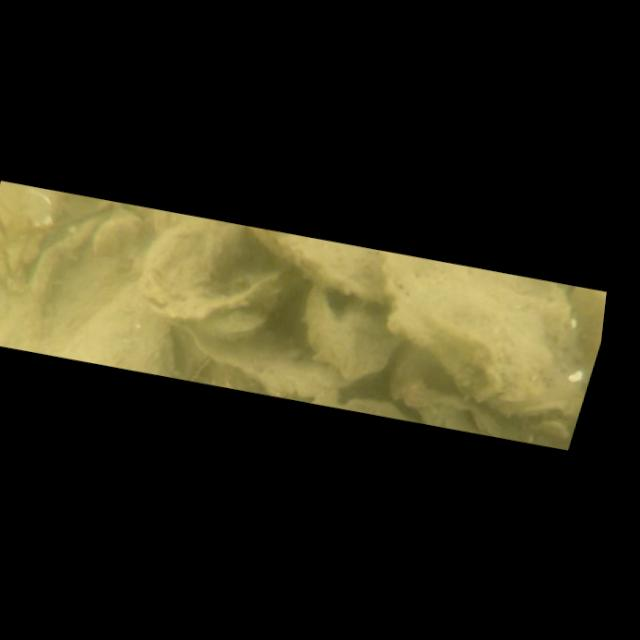Oyster-Closed: (197, 309, 268, 338)
Oyster-Indeterminate: (385, 253, 584, 415), (137, 216, 301, 320), (178, 327, 345, 397), (251, 226, 392, 303), (57, 286, 175, 376), (304, 284, 405, 379), (569, 286, 606, 372), (92, 218, 142, 255)
